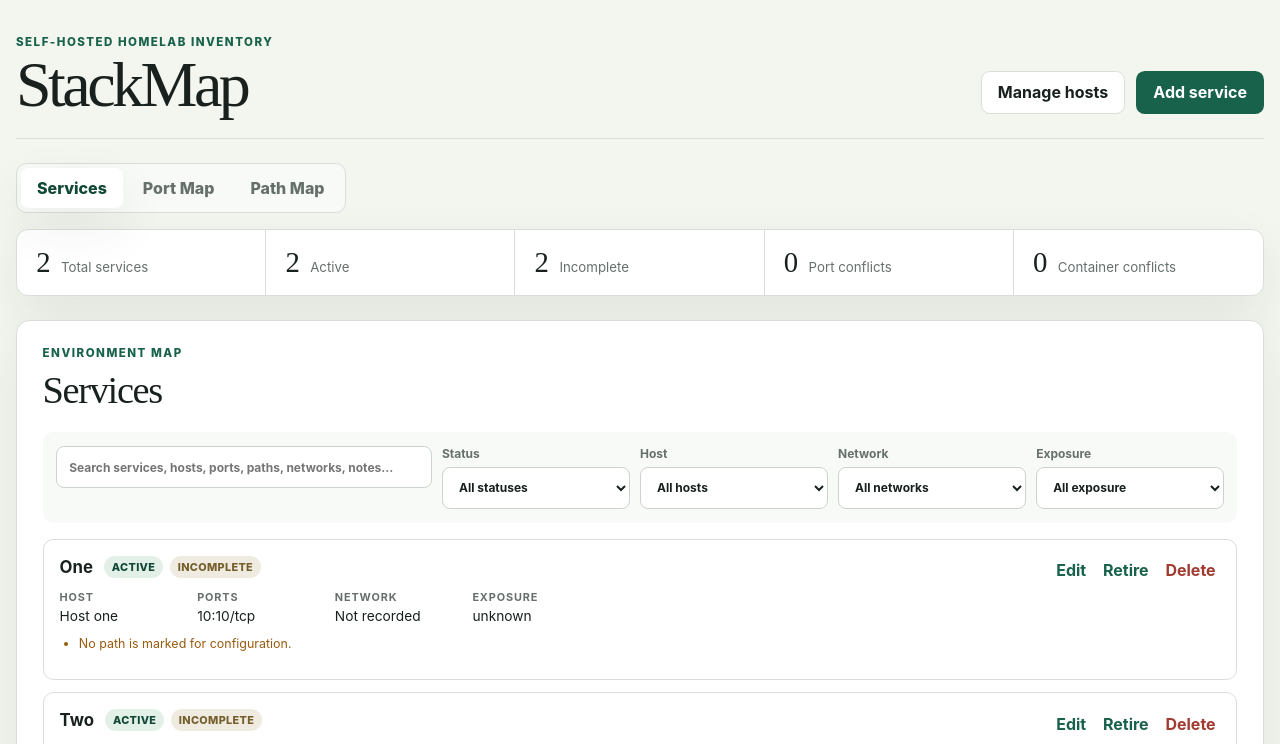
Test case: StackMap service workflows › filters Port Map hosts and preserves the filter after editing a service
Click the button "Port Map" at [179, 188], box [127,168,230,208]
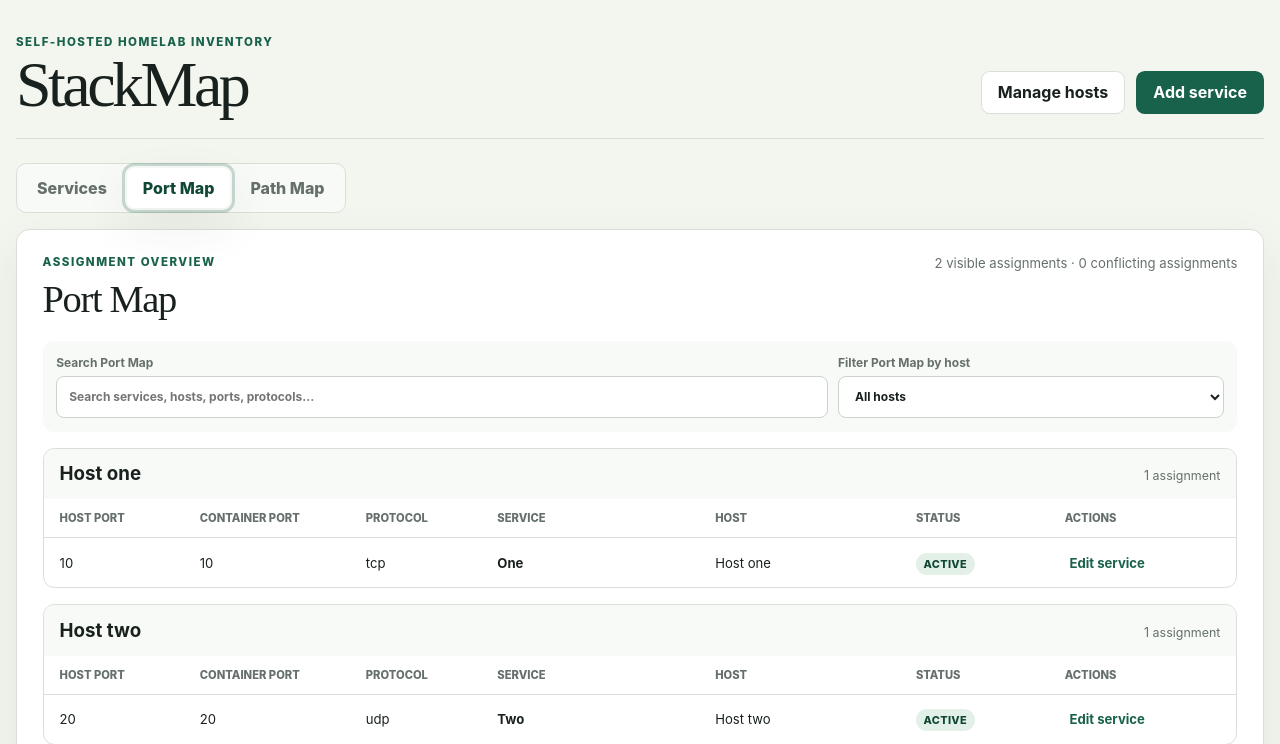
Select "Host one" in the dropdown labelled "Filter Port Map by host" at [1031, 397], box [838,376,1224,418]
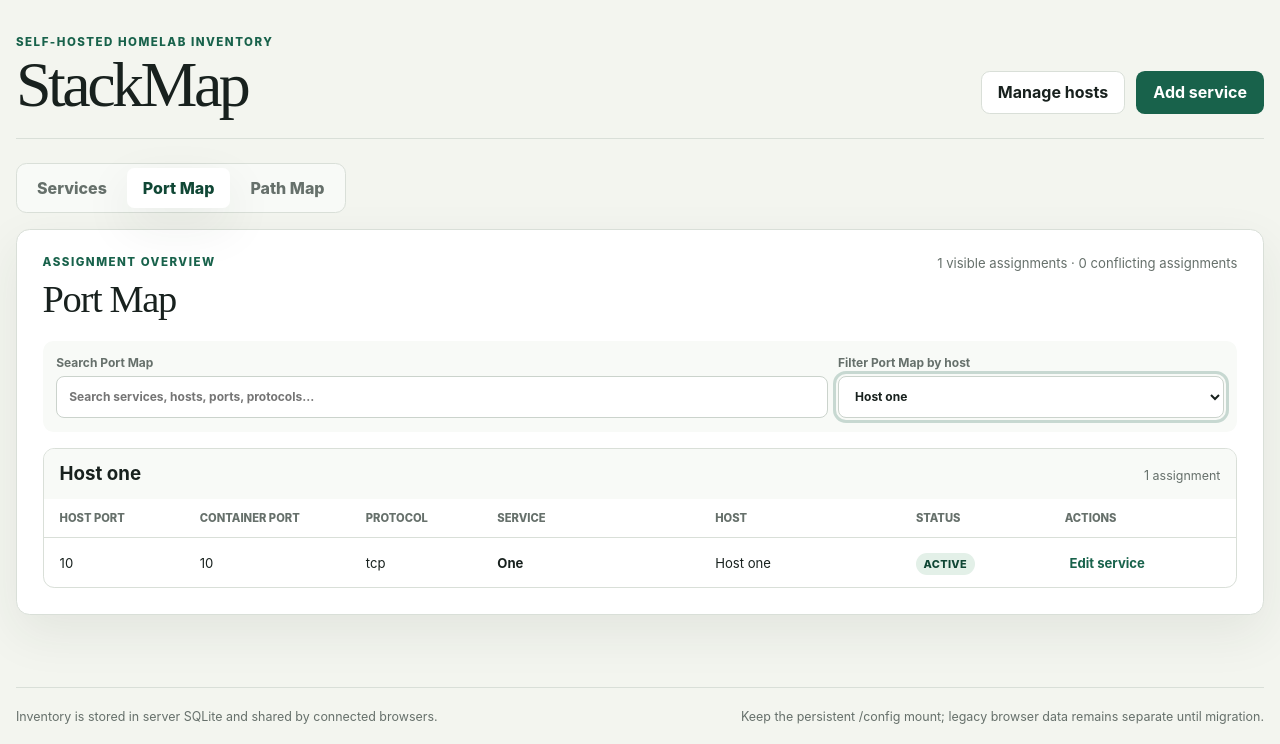
expect the heading "Host one" is shown: met, box [60,462,141,485]
expect the heading "Host two" is gone: met
Click the button with aria-label "Edit service One" at [1107, 562], box [1065,550,1150,575]
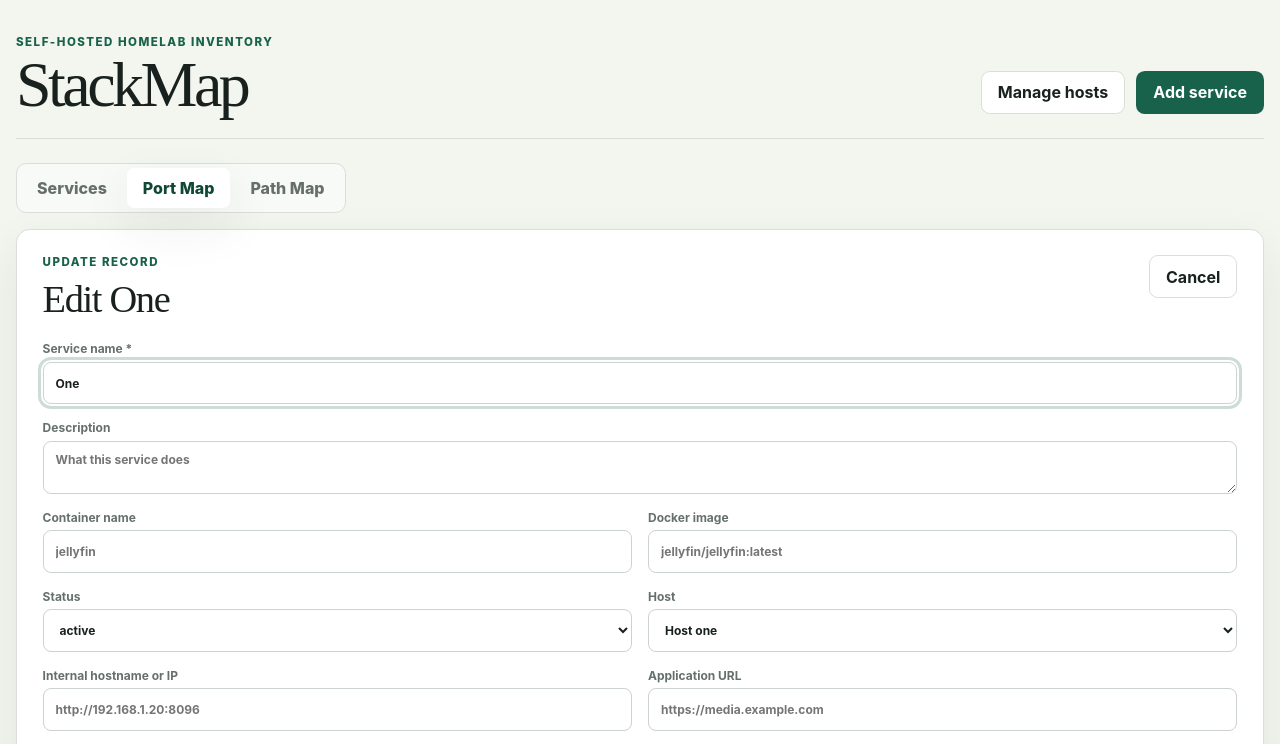
Replace the text in the field labelled "Service name *" with "One updated" at [640, 383], box [43,362,1237,404]
(page scrolled)
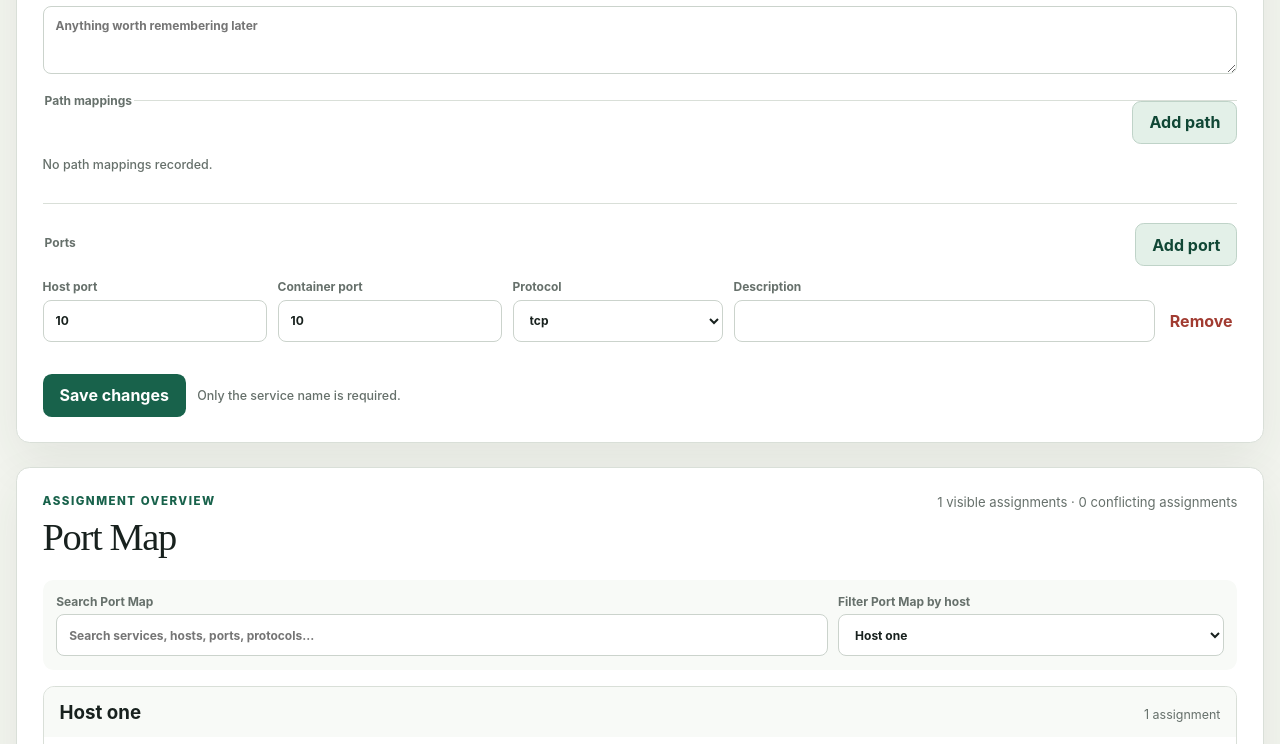
Click the button "Save changes" at [114, 395], box [43,374,186,417]
(page scrolled)
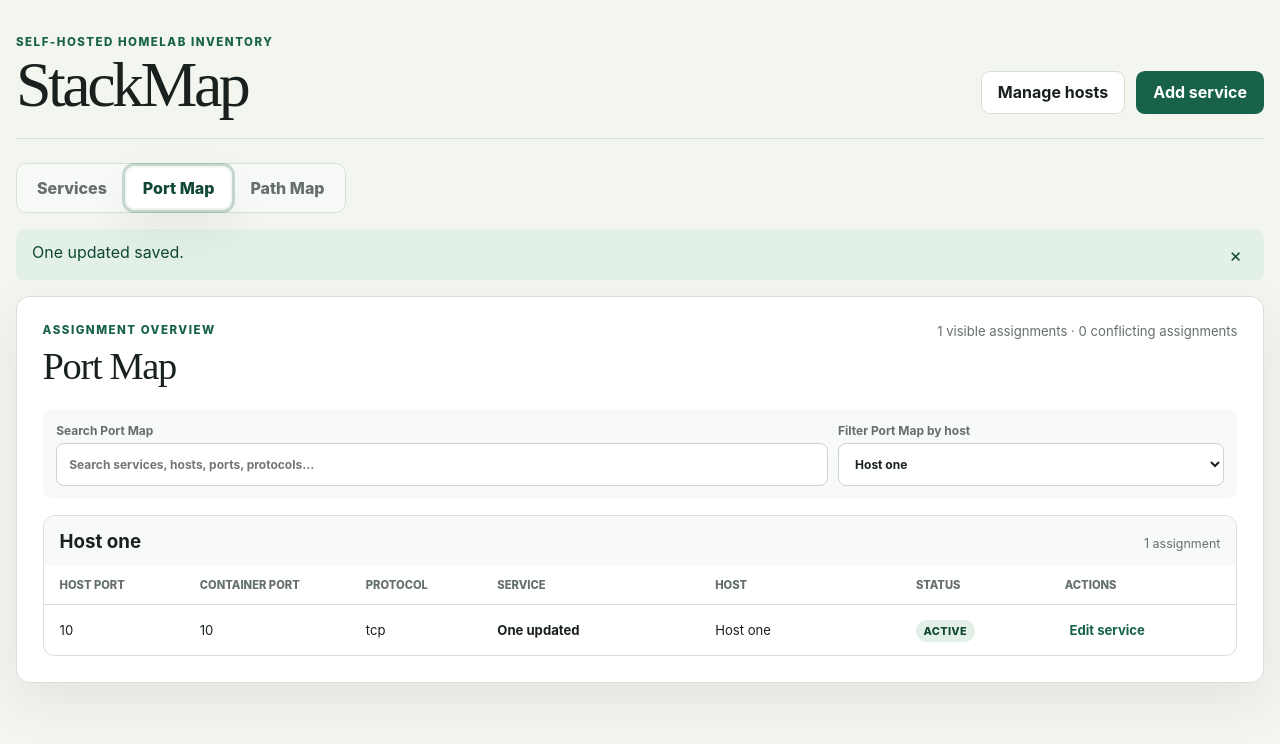
expect the heading "Port Map" is shown: met, box [43,345,176,387]
expect the text "One updated" is shown: met, box [497,622,580,638]
